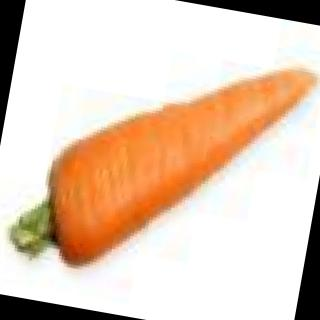Wortel: (1, 16, 320, 305)
